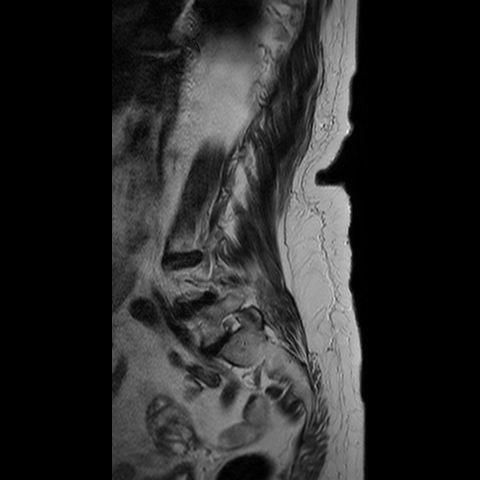RFS0: (213, 305, 249, 345)
